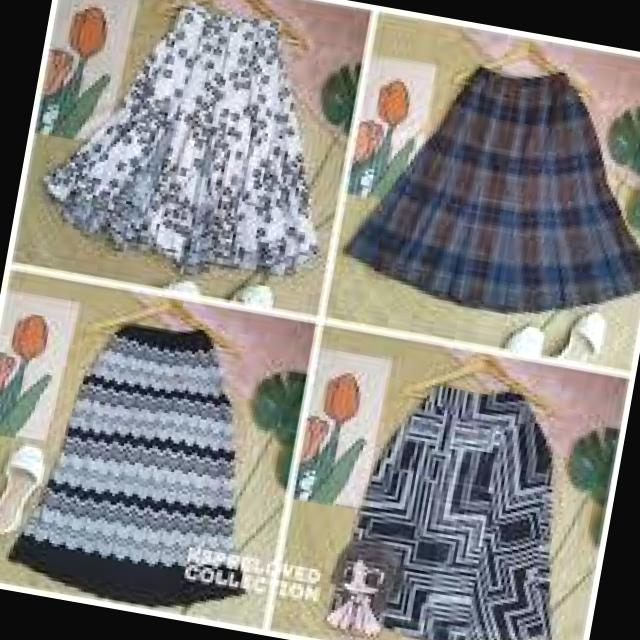skirt: (26, 0, 372, 308), (0, 304, 298, 617), (332, 44, 640, 345), (303, 353, 617, 640)
